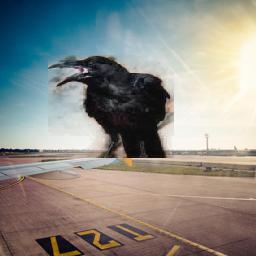Crow: (48, 56, 174, 159)
